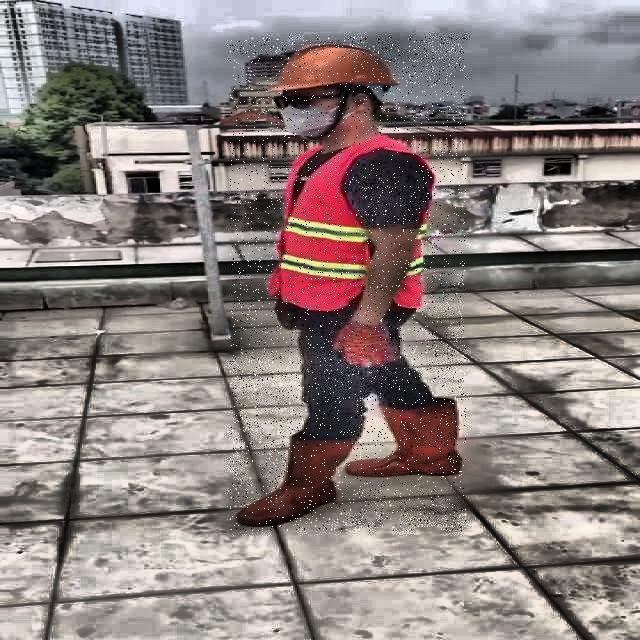safety_helmet: (268, 42, 401, 94)
safety_jacket: (272, 139, 427, 306)
